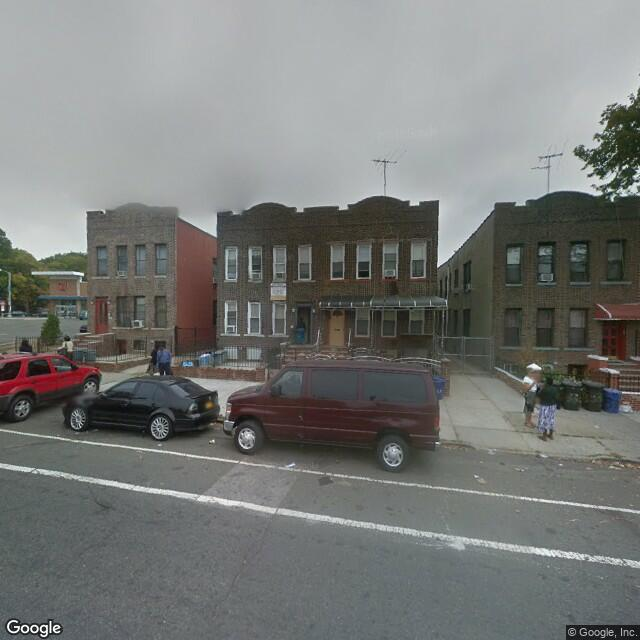litter: (284, 460, 297, 469), (590, 423, 603, 430), (208, 436, 217, 444), (472, 473, 481, 480), (157, 443, 166, 448), (557, 462, 564, 467)
